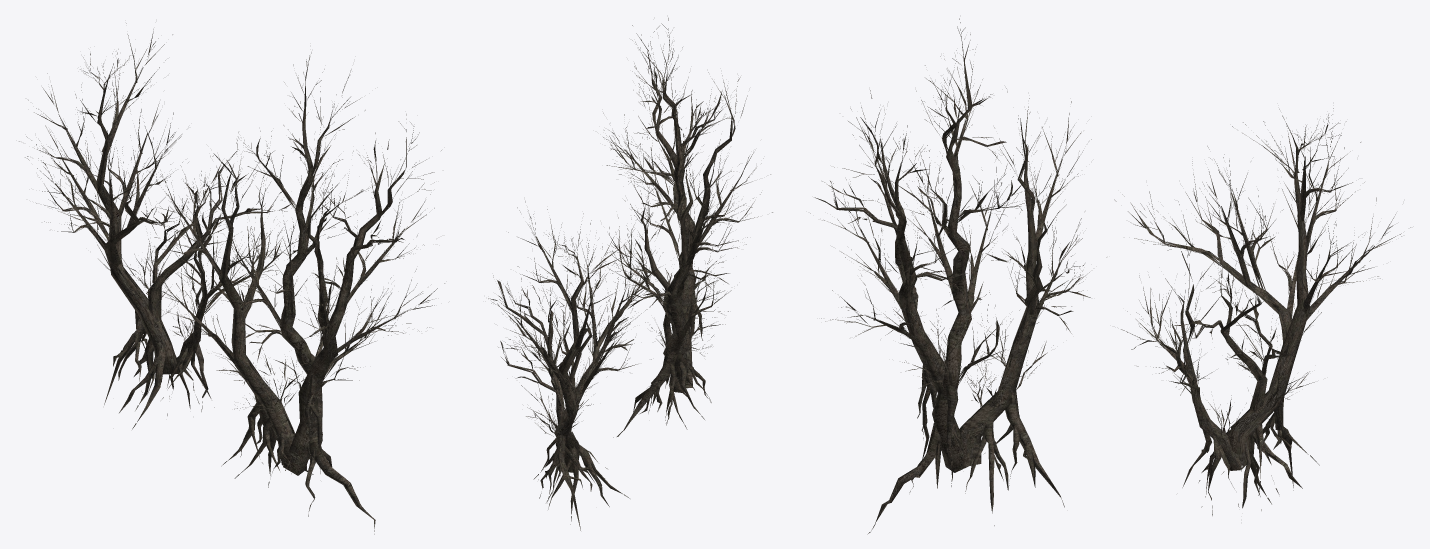
File: tree_dead_02.glb
3 renders of one model, left to right at view 1: azimuth 30°, elevation 25°; view 2: azimuth 150°, elevation 25°; view 3: azimuth 270°, elevation 25°, orthographic. The views are drawn at different scales.
Visible parts, largest first — view 1: dead_tree_1_Mat.1_0; view 2: dead_tree_1_Mat.1_0; view 3: dead_tree_1_Mat.1_0.
Part boxes in pixels (<box>): dead_tree_1_Mat.1_0: <box>19,23,444,534</box>; dead_tree_1_Mat.1_0: <box>488,18,772,530</box>; dead_tree_1_Mat.1_0: <box>810,18,1410,534</box>.
Bounding box in the file's own units: 6.35 × 12 × 13.
1 material, 1 textured.
